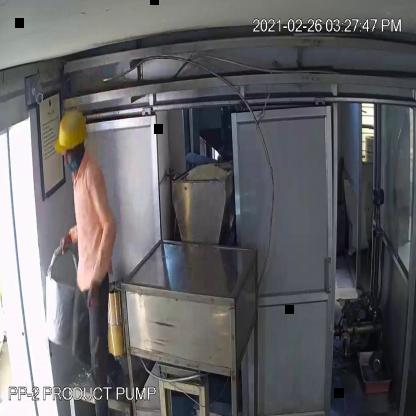helmet: (47, 107, 92, 155)
